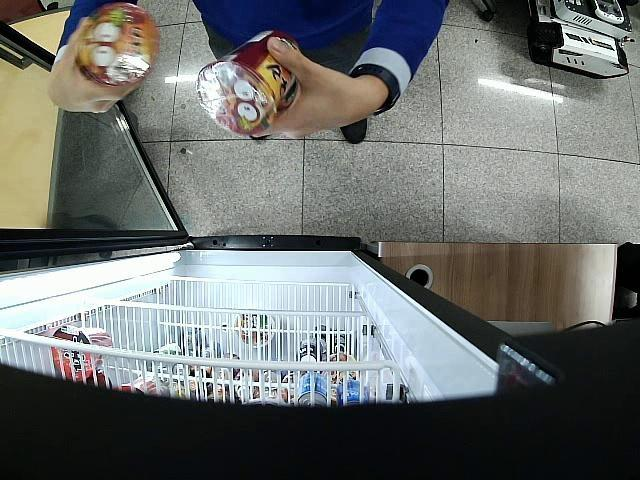06_nuguri_S: (197, 30, 303, 136), (78, 3, 160, 86)
